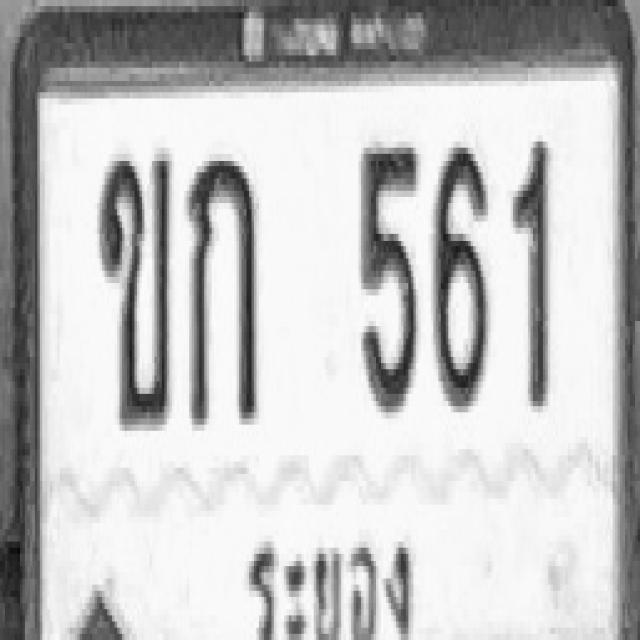1: (512, 136, 549, 407)
10GorGai: (187, 153, 256, 424)
11KhorKhai: (98, 150, 170, 428)
5: (360, 142, 417, 412)
6: (433, 142, 488, 406)
Rayong: (242, 521, 410, 640)
